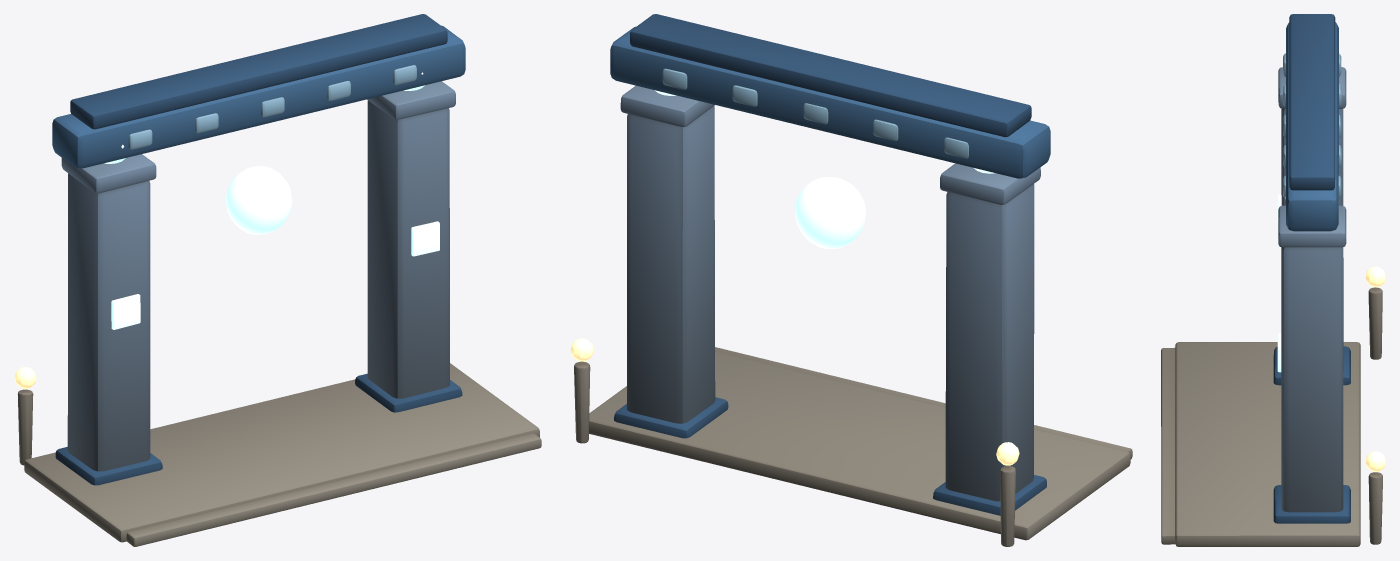
The picture shows the model from 3 angles, left to right: view 1: azimuth 30°, elevation 25°; view 2: azimuth 150°, elevation 25°; view 3: azimuth 270°, elevation 25°; orthographic projection. The views are drawn at different scales.
Visible parts, largest first — view 1: gate_c916bb64; view 2: gate_c916bb64; view 3: gate_c916bb64.
Boxes of the visible parts, x1,y1,x2,y2 form: gate_c916bb64: (14, 14, 541, 546); gate_c916bb64: (570, 14, 1132, 546); gate_c916bb64: (1161, 14, 1385, 546).
Size of the model in its own units: 5.22 by 4.46 by 2.55.
